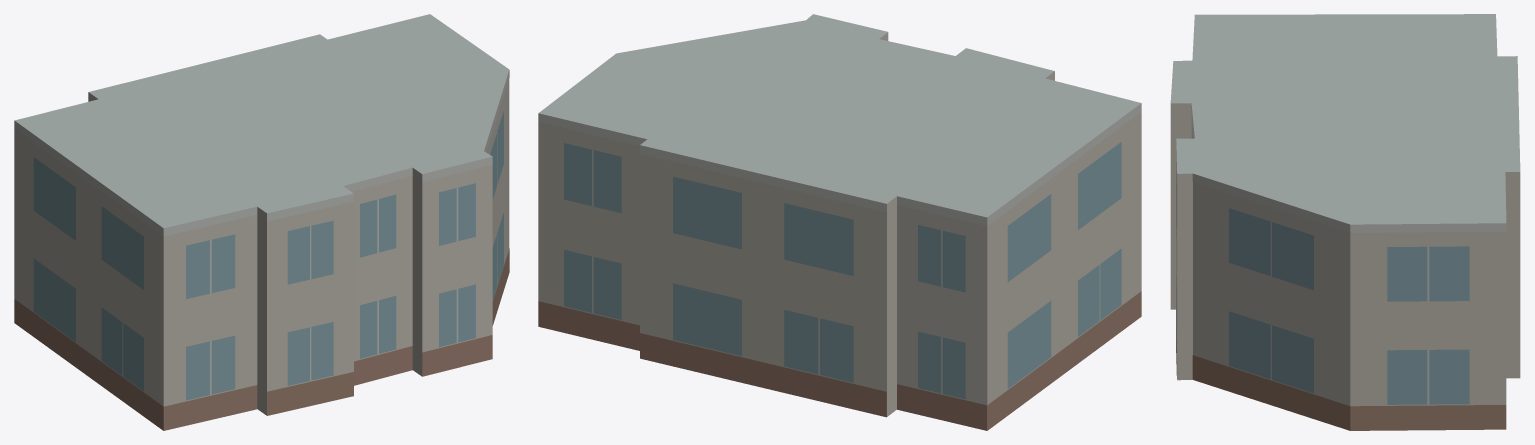
File: survey-upis-32576081.glb
3 views of the same model, side by side, from view 1: azimuth 30°, elevation 25°; view 2: azimuth 150°, elevation 25°; view 3: azimuth 270°, elevation 25° (orthographic). The views are drawn at different scales.
Parts seen in each view (by area): view 1: survey-upis-32576081.tmp; view 2: survey-upis-32576081.tmp; view 3: survey-upis-32576081.tmp.
Part boxes in pixels (box(x1,y1,x2,y2)): survey-upis-32576081.tmp: box(14, 14, 509, 430); survey-upis-32576081.tmp: box(538, 14, 1141, 430); survey-upis-32576081.tmp: box(1170, 14, 1520, 430).
Bounding box in the file's own units: 13.36 × 6.1 × 9.39.
